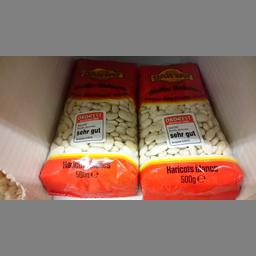beans: (137, 60, 242, 202), (40, 54, 136, 193)
